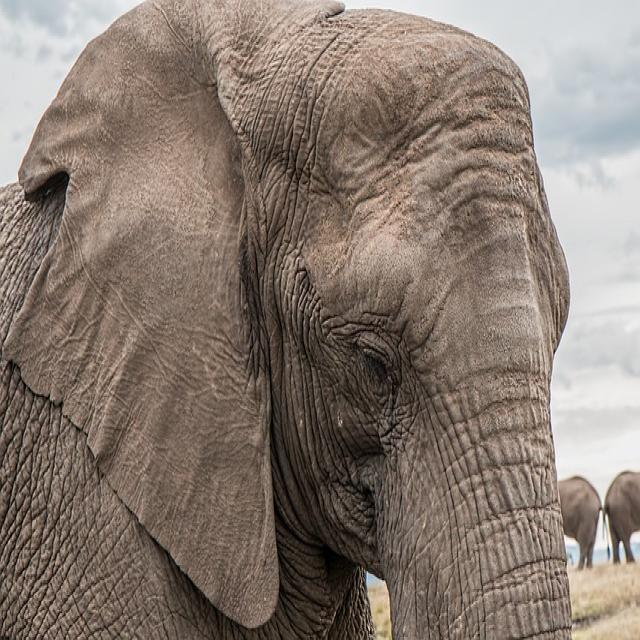Herbivorous: (0, 0, 575, 640)
